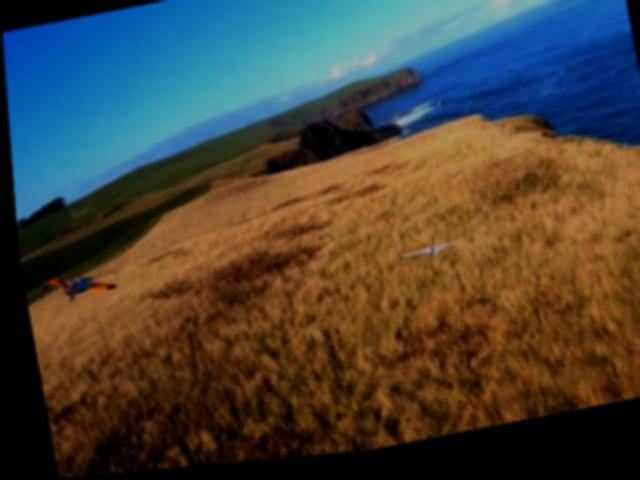uav: (32, 266, 113, 309), (396, 245, 460, 272)
